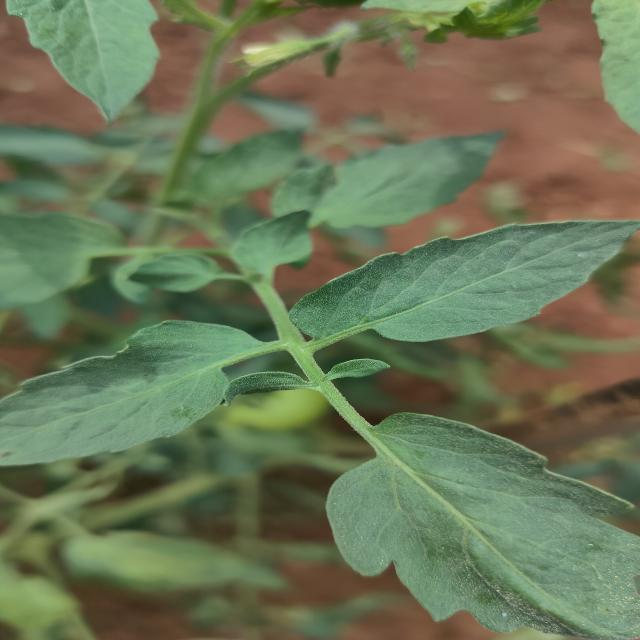tomato_healthy: (327, 414, 636, 637), (6, 320, 281, 470), (298, 221, 627, 344)
